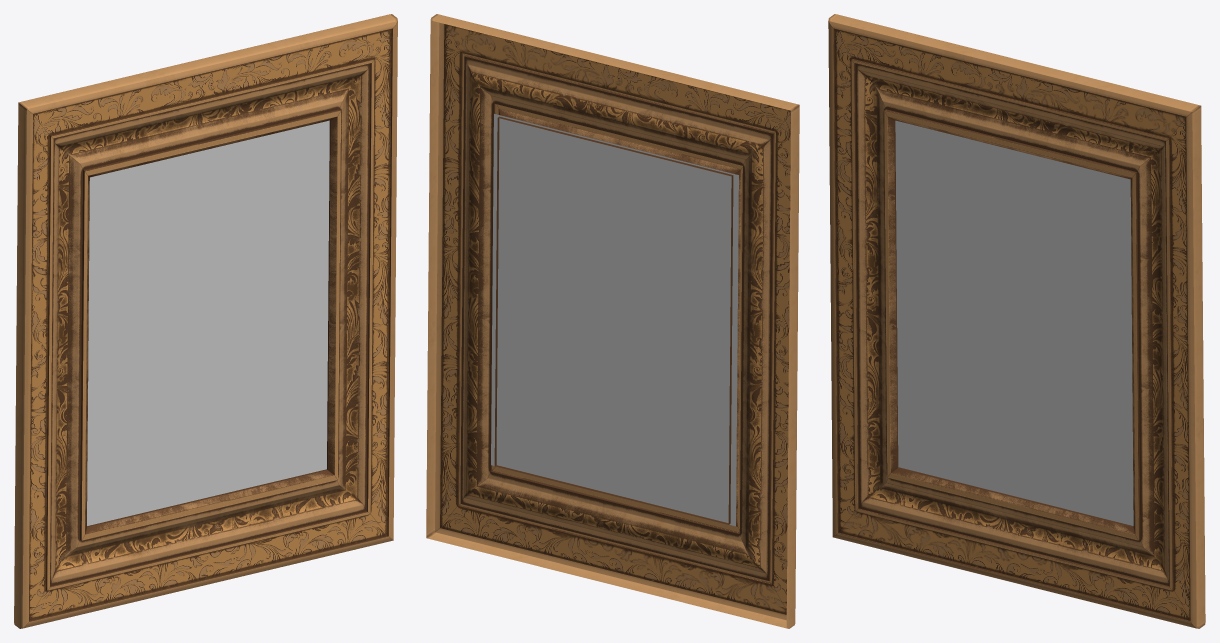
Rendered from frame.glb.
The picture shows the model from 3 angles, left to right: view 1: azimuth 30°, elevation 25°; view 2: azimuth 150°, elevation 25°; view 3: azimuth 330°, elevation 25°; orthographic projection.
Parts seen in each view (by area): view 1: frame, painting; view 2: frame, painting; view 3: frame, painting.
Boxes of the visible parts, x1,y1,x2,y2 form: frame: (14, 14, 397, 628); painting: (87, 120, 329, 525); frame: (426, 14, 799, 628); painting: (491, 114, 738, 526); frame: (828, 14, 1205, 628); painting: (895, 120, 1133, 525).
Bounding box in the file's own units: 0.2518 × 0.3406 × 0.019.
Materials: 2 (1 with a texture image).
